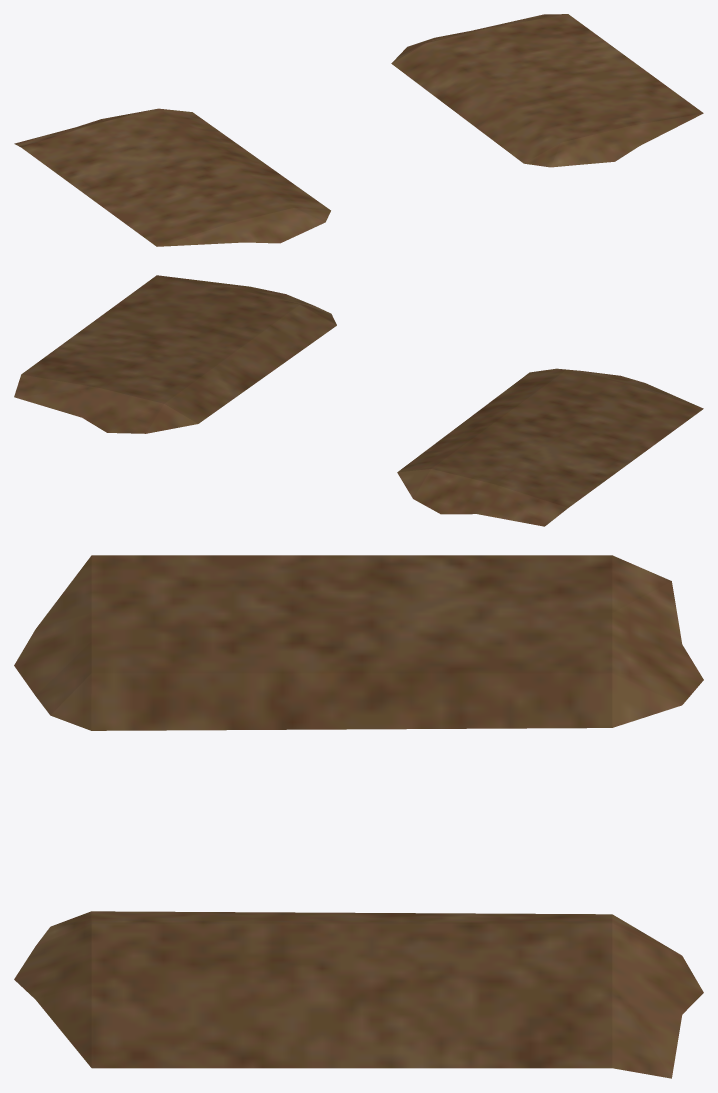
The model's file is DirtPile_06.glb.
3 views of the same model, one above another, from view 1: azimuth 30°, elevation 25°; view 2: azimuth 150°, elevation 25°; view 3: azimuth 270°, elevation 25° (orthographic). The views are drawn at different scales.
Visible parts, largest first — view 1: DirtPile_06; view 2: DirtPile_06; view 3: DirtPile_06.
Boxes of the visible parts, <box> form: DirtPile_06: <box>14,14,703,246</box>; DirtPile_06: <box>14,275,703,526</box>; DirtPile_06: <box>14,555,703,1078</box>.
Bounding box in the file's own units: 3185 × 111 × 1811.
1 material, 1 textured.
